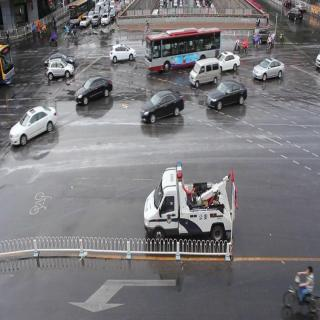Car: (143, 160, 238, 260), (144, 29, 226, 68), (7, 100, 58, 148), (141, 83, 183, 129), (205, 76, 250, 118), (74, 77, 116, 107), (187, 53, 221, 90), (256, 56, 290, 86), (0, 39, 17, 90), (106, 40, 138, 67), (46, 58, 76, 84), (217, 48, 240, 74), (66, 0, 88, 27), (254, 25, 273, 51), (286, 7, 303, 26), (99, 11, 114, 28), (77, 13, 91, 28), (92, 12, 101, 28)
